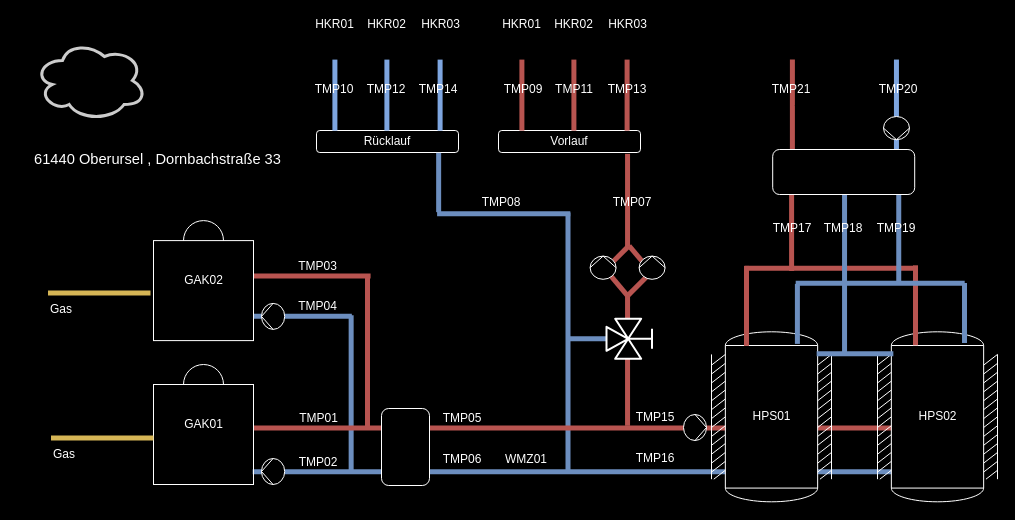
Some shapes in this 1015 by 520 pixel diagram are drawn without their labels. Here are the shapes that lost their labels. From the top down, the box of each, then its label:
(32, 38, 147, 122): ATS01
(772, 148, 915, 194): BWB01
(380, 408, 430, 486): HYW01
